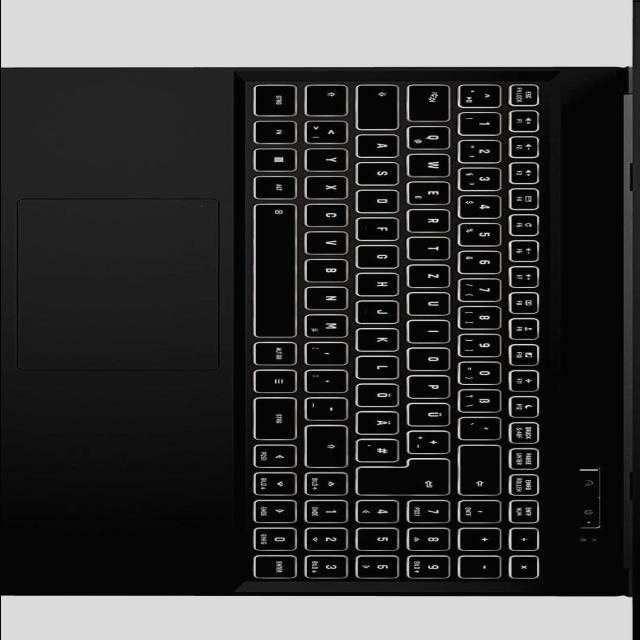0: (462, 360, 506, 384)
1: (462, 110, 506, 134)
2: (462, 138, 506, 162)
3: (462, 165, 506, 189)
4: (463, 194, 506, 218)
5: (462, 221, 506, 245)
6: (462, 249, 506, 273)
7: (461, 276, 505, 300)
8: (462, 304, 506, 328)
9: (462, 332, 506, 356)
a: (360, 132, 403, 156)
accent: (463, 415, 505, 439)
ae: (360, 409, 404, 433)
alt-left: (258, 174, 301, 198)
altgr-right: (258, 340, 301, 364)
b: (309, 257, 353, 281)
c: (309, 202, 353, 226)
caret: (463, 82, 506, 106)
comma: (309, 340, 353, 363)
d: (360, 188, 404, 212)
del: (462, 443, 506, 494)
e: (411, 179, 455, 203)
enter: (360, 456, 456, 494)
f: (361, 216, 404, 239)
g: (361, 243, 404, 267)
h: (361, 271, 404, 295)
hash: (361, 437, 404, 461)
i: (412, 318, 454, 342)
j: (360, 298, 404, 322)
k: (360, 326, 404, 350)
keyboard: (241, 72, 565, 589)
l: (361, 354, 404, 378)
less: (309, 119, 352, 143)
m: (308, 312, 352, 336)
minus: (310, 395, 352, 419)
n: (309, 285, 353, 309)
o: (412, 345, 454, 369)
oe: (361, 381, 404, 405)
p: (412, 373, 455, 397)
plus: (412, 428, 456, 452)
point: (309, 368, 352, 392)
q: (411, 124, 455, 148)
r: (411, 207, 454, 231)
s: (360, 160, 404, 184)
shift-left: (309, 82, 352, 114)
shift-lock: (361, 82, 404, 128)
shift-right: (309, 422, 352, 466)
space: (257, 202, 301, 336)
ss: (462, 387, 506, 411)
strg-left: (257, 82, 301, 115)
strg-right: (258, 395, 301, 439)
t: (412, 235, 455, 258)
tab: (411, 82, 454, 120)
u: (411, 290, 455, 314)
ue: (411, 401, 455, 425)
v: (309, 230, 353, 254)
w: (411, 152, 455, 176)
x: (309, 175, 353, 198)
y: (309, 146, 352, 170)
z: (411, 263, 455, 286)
